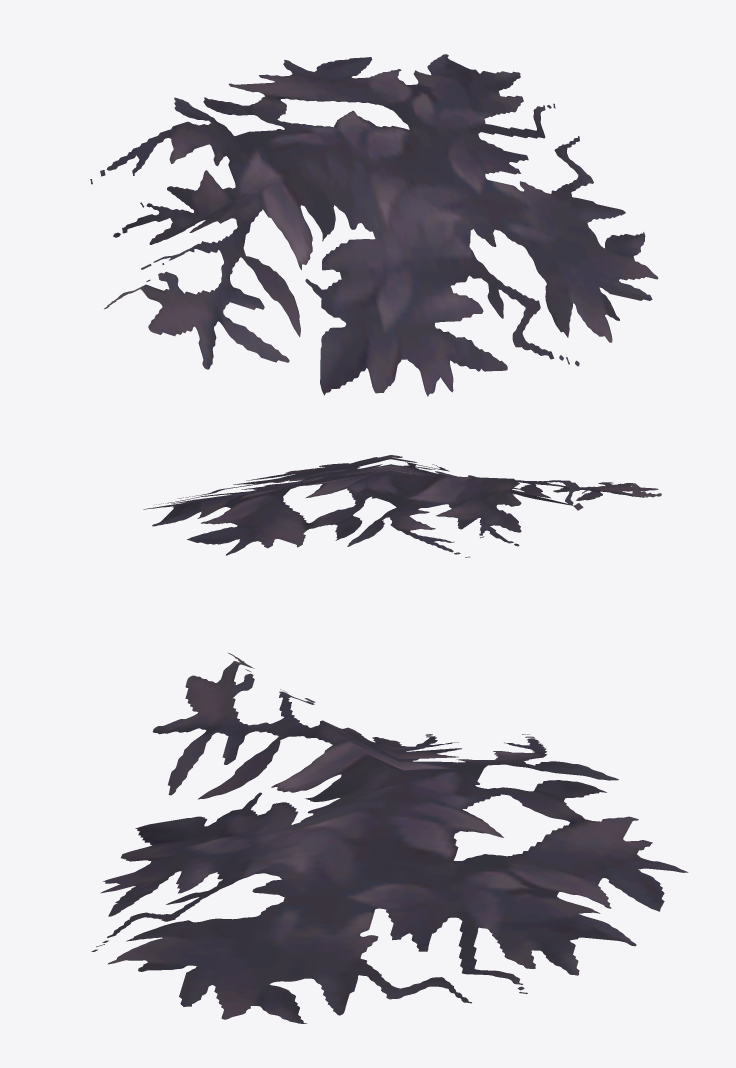
The model's file is yw_shanlin_treeleaves_021.FBX.
3 renders of one model, top to bottom at view 1: azimuth 30°, elevation 25°; view 2: azimuth 150°, elevation 25°; view 3: azimuth 270°, elevation 25°, orthographic. The views are drawn at different scales.
Visible parts, largest first — view 1: yw_shanlin_treeleaves_021; view 2: yw_shanlin_treeleaves_021; view 3: yw_shanlin_treeleaves_021.
Boxes of the visible parts, bbox=[...] form: yw_shanlin_treeleaves_021: bbox=[90, 54, 658, 396]; yw_shanlin_treeleaves_021: bbox=[143, 455, 661, 557]; yw_shanlin_treeleaves_021: bbox=[91, 653, 688, 1023].
Bounding box in the file's own units: 310 × 58.8 × 247.
